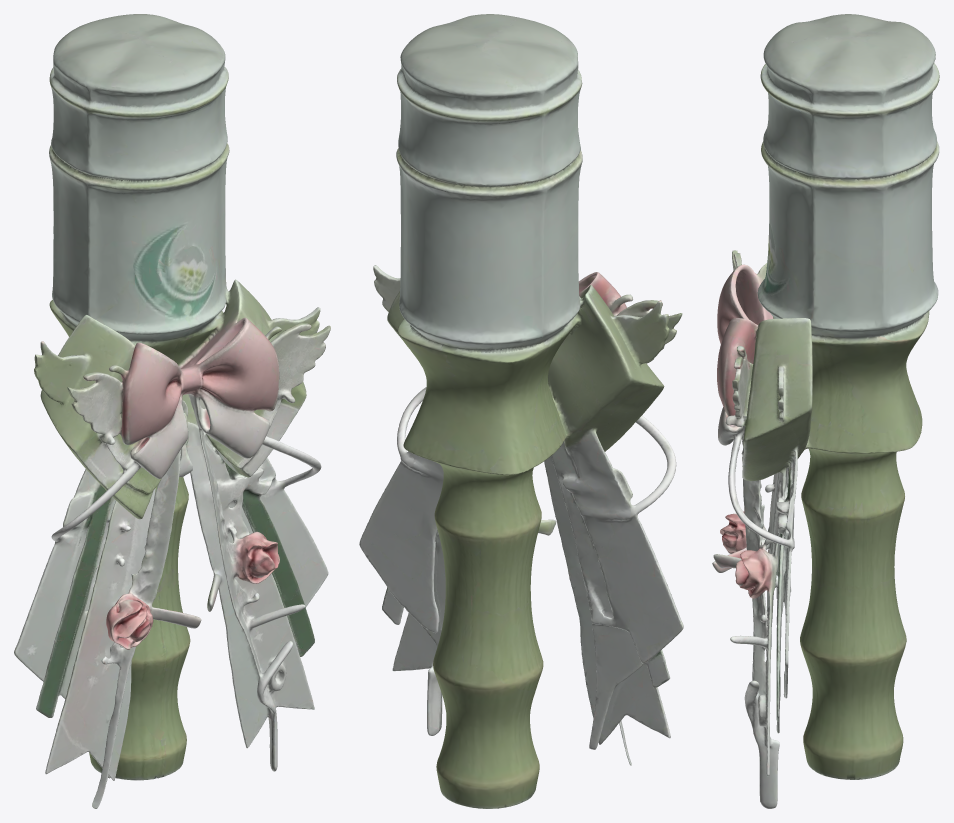
File: light-stick-small.glb
3 views of the same model, side by side, from view 1: azimuth 30°, elevation 25°; view 2: azimuth 150°, elevation 25°; view 3: azimuth 270°, elevation 25° (orthographic). The views are drawn at different scales.
Parts seen in each view (by area): view 1: mesh_0; view 2: mesh_0; view 3: mesh_0.
Boxes of the visible parts, box(x1,y1,x2,y2) form: mesh_0: box(14, 14, 330, 808); mesh_0: box(359, 14, 683, 808); mesh_0: box(712, 14, 939, 808).
Bounding box in the file's own units: 0.8575 × 1.9 × 0.5389.
Materials: 1 (1 with a texture image).
